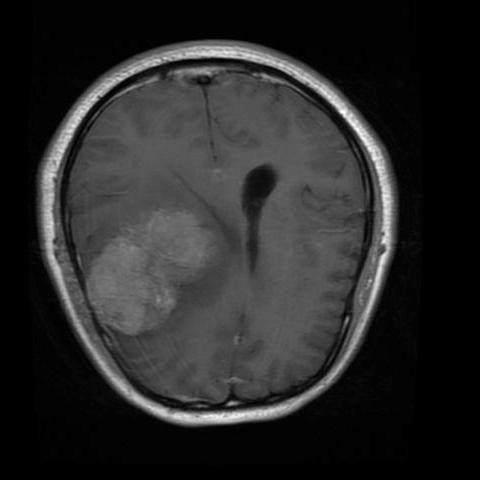Tumour-Meningioma: (81, 192, 215, 348)
